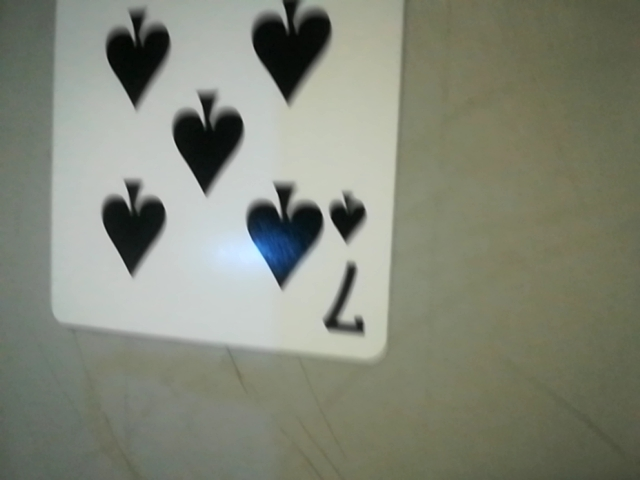ht 7: (308, 176, 386, 359)
